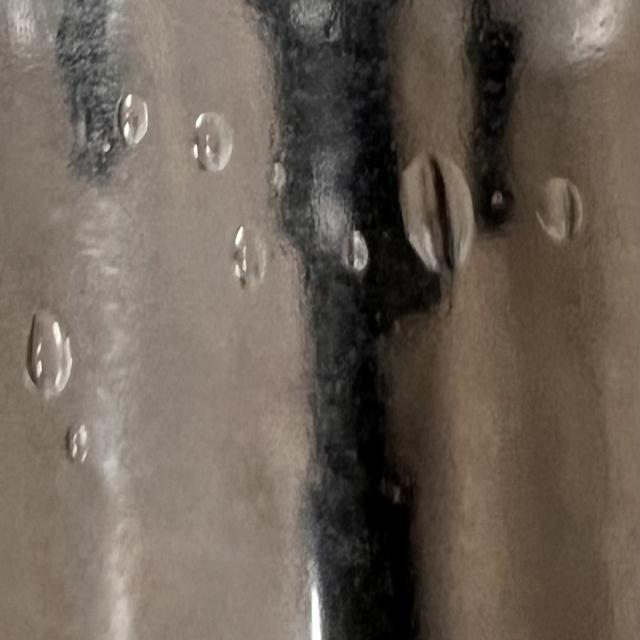raindrop: (379, 148, 479, 282), (0, 300, 84, 414), (526, 169, 604, 253), (219, 217, 268, 296), (184, 114, 234, 185), (108, 76, 154, 147), (334, 221, 378, 279), (57, 402, 92, 469)
